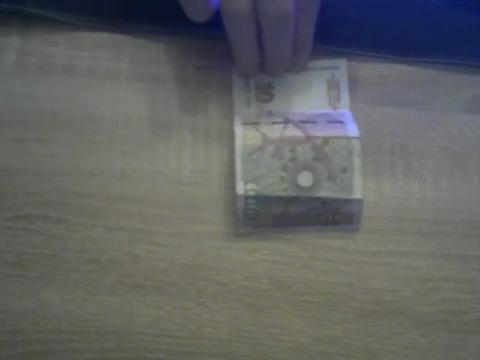10leva: (234, 60, 365, 233)
